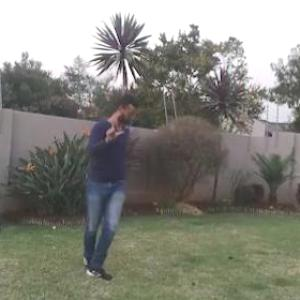land_hand: (99, 112, 126, 144)
